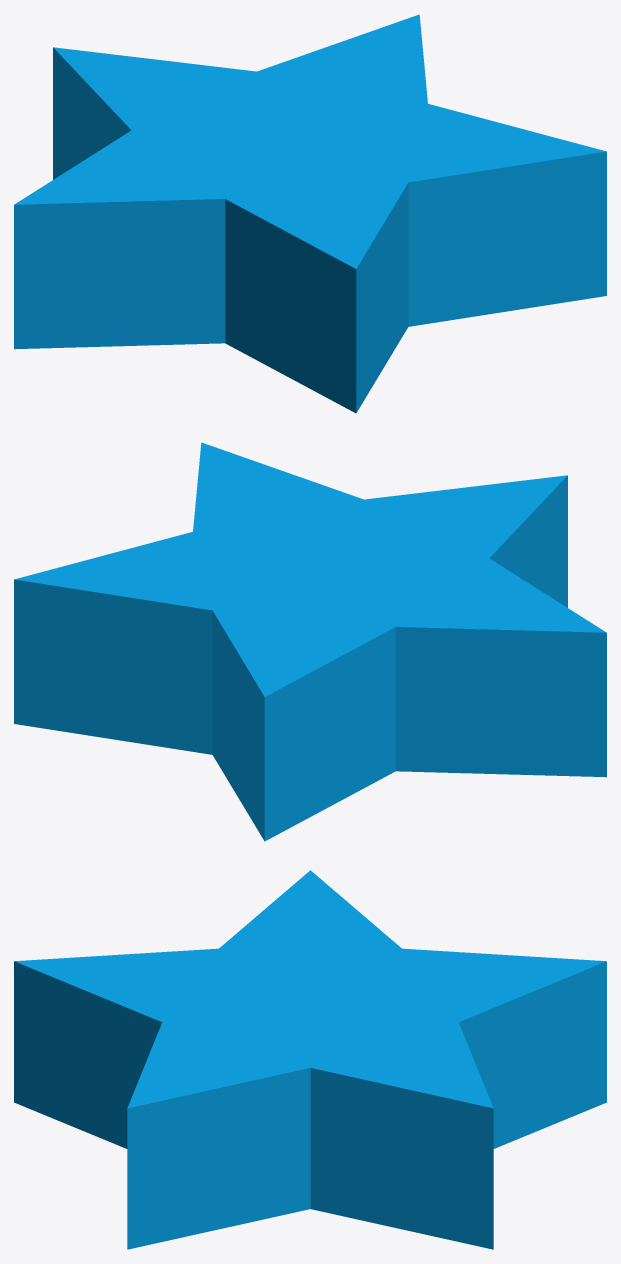
File: Star.fbx
The picture shows the model from 3 angles, top to bottom: view 1: azimuth 30°, elevation 25°; view 2: azimuth 150°, elevation 25°; view 3: azimuth 270°, elevation 25°; orthographic projection. The views are drawn at different scales.
Parts seen in each view (by area): view 1: Star; view 2: Star; view 3: Star.
Part boxes in pixels (x1=…): Star: x1=14, y1=14, x2=606, y2=413; Star: x1=14, y1=442, x2=606, y2=841; Star: x1=14, y1=870, x2=606, y2=1249.
Size of the model in its own units: 13.92 by 3.85 by 14.64.
1 material, 1 textured.
